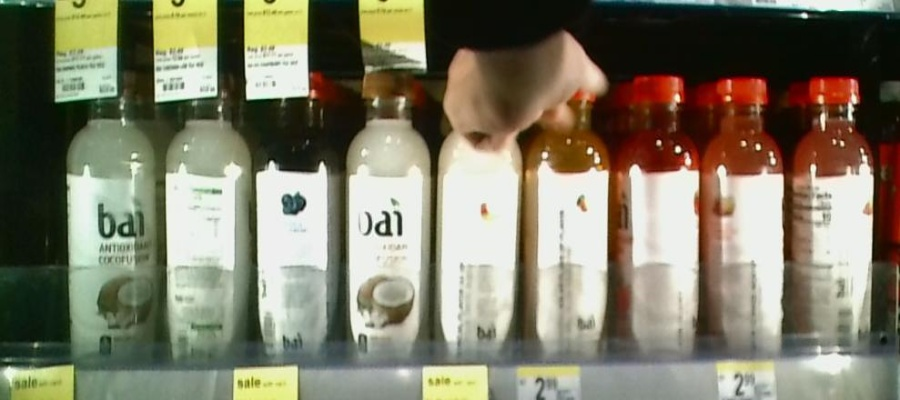bottle: (341, 58, 433, 358), (65, 76, 157, 373), (790, 51, 878, 358), (521, 73, 613, 362), (254, 60, 340, 364), (704, 48, 788, 359), (158, 87, 249, 363), (437, 53, 516, 364), (618, 67, 701, 358)
